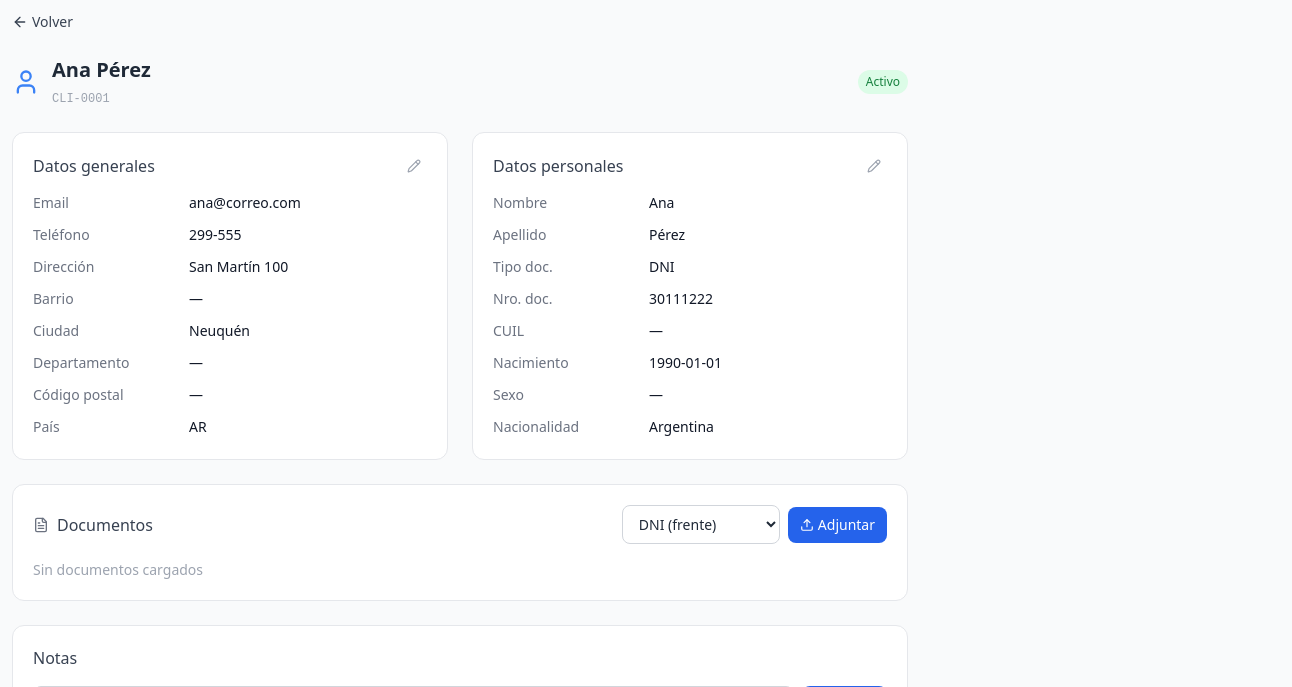
it: ClienteDetailPage — edición de datos › muestra el detalle del backend si falla el guardado
expect the heading "Ana Pérez" is shown: met, box [52, 56, 151, 84]
What coordinates should you click on to do the following:
click the button without text in the row of "Datos generales"
I would click on:
 (414, 166)
Its box is [401, 153, 427, 179].
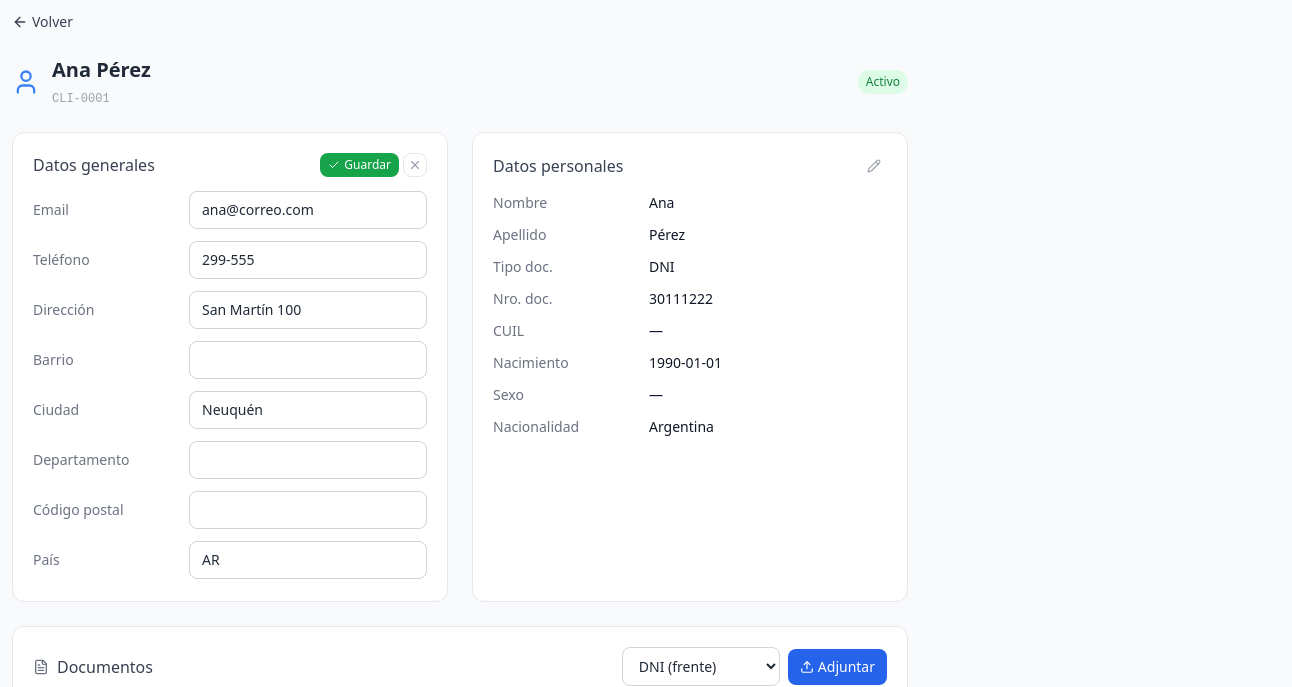
What coordinates should you click on to do the following:
click the button "Guardar"
I would click on:
 (360, 165)
Its box is [320, 153, 399, 177].
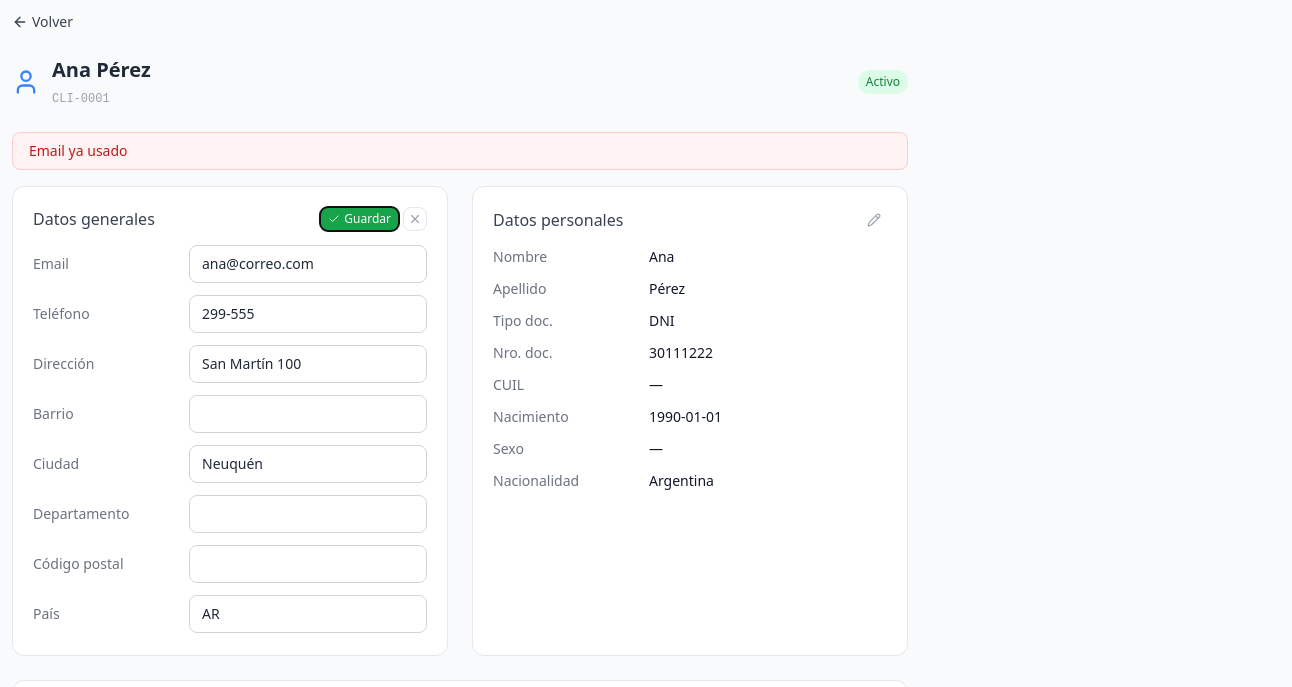
expect the text "Email ya usado" is shown: met, box [12, 132, 908, 170]
